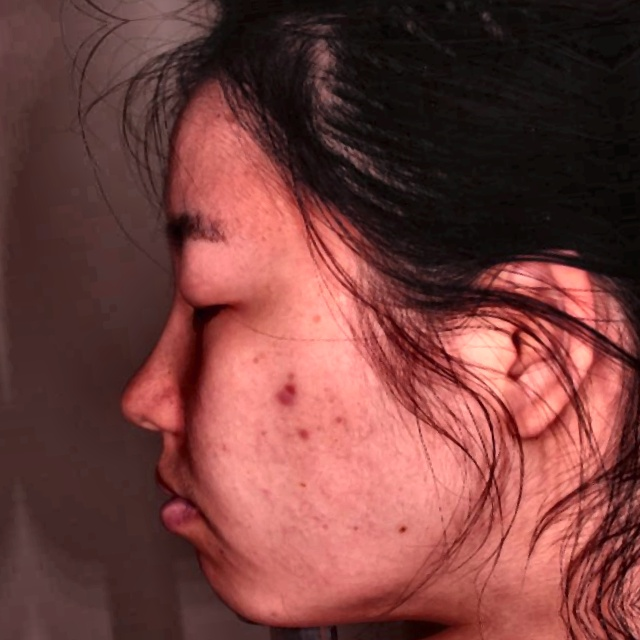comedone: (269, 369, 310, 413), (276, 418, 321, 447)
